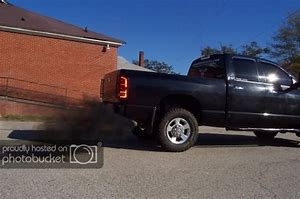smoke: (27, 101, 127, 144)
